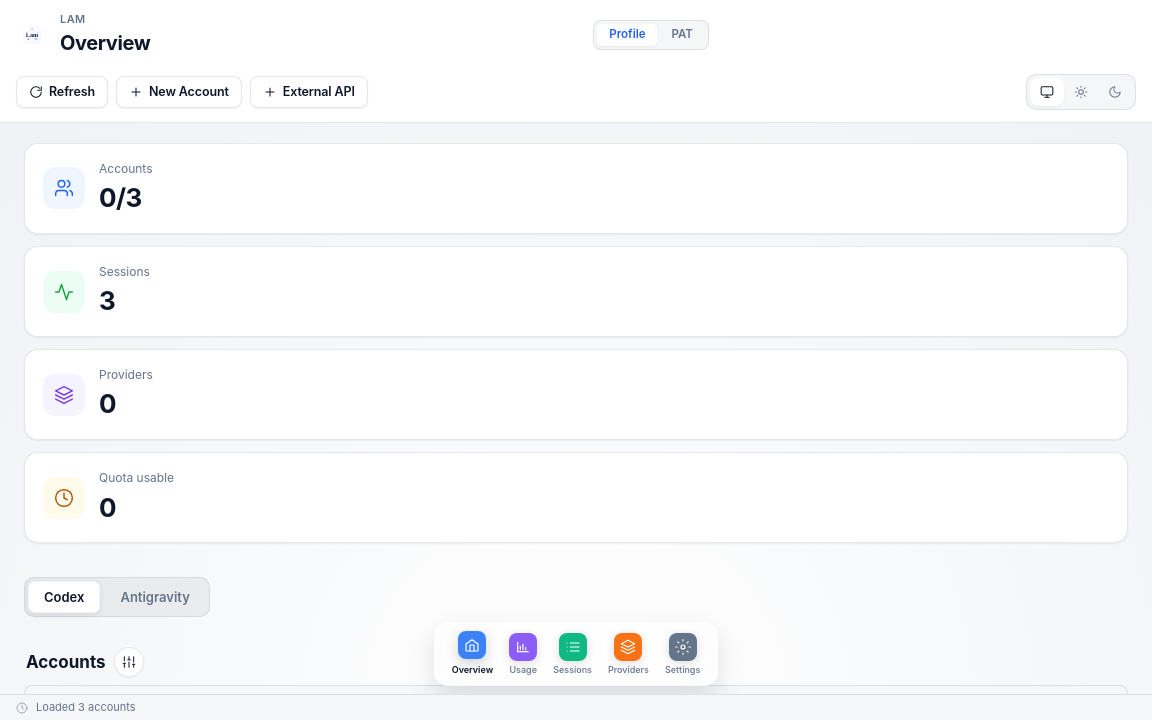
it: App handoff modal › keeps API Account out of the New Account chooser
Click the button "New Account": (179, 92) [116, 76, 242, 108]
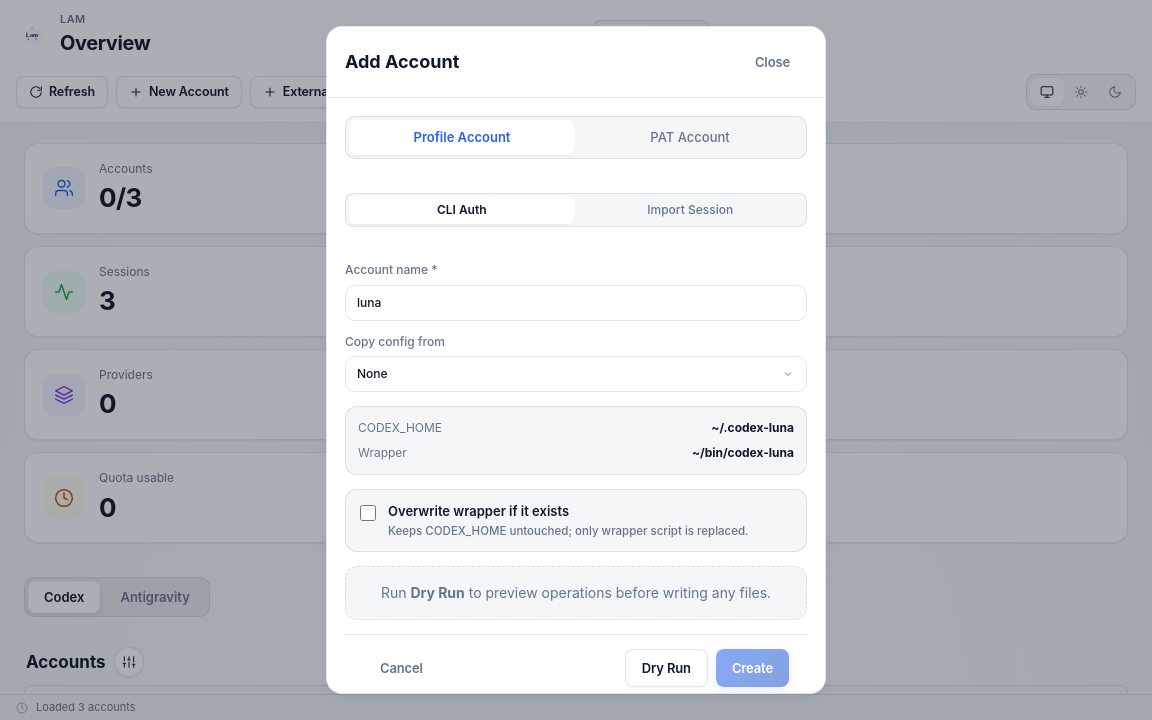
Expected: the heading "Add Account" is shown, [345, 49, 459, 75]
Expected: the button "Profile Account" is shown, [349, 120, 575, 155]
Expected: the button "PAT Account" is shown, [577, 120, 803, 155]
